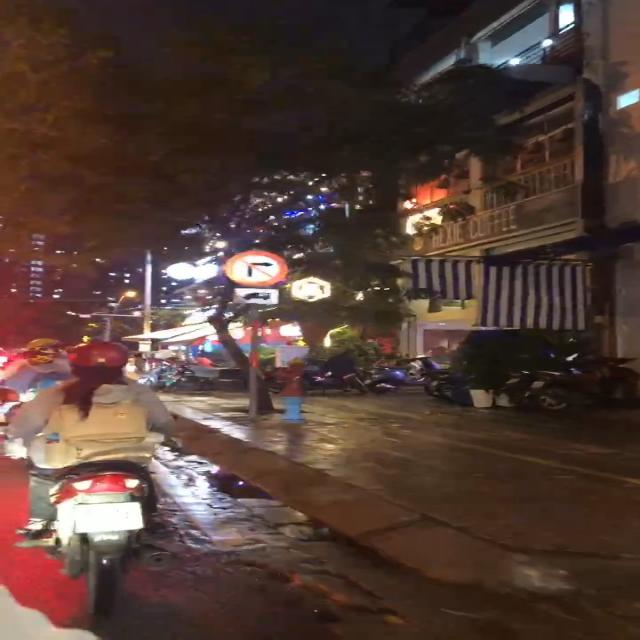Bien bao cam re phai: (212, 243, 292, 287)
